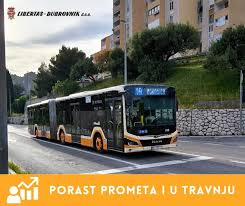bus: (25, 82, 180, 156)
